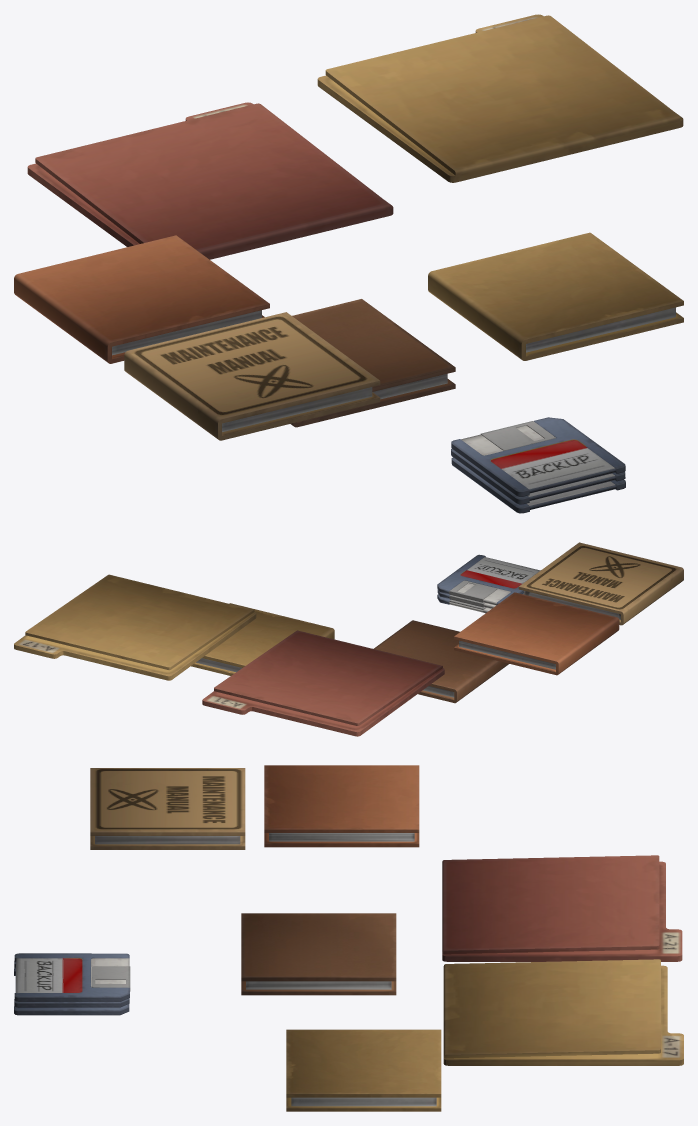
Rendered from BoxesFixtures.fbx.
3 renders of one model, top to bottom at view 1: azimuth 30°, elevation 25°; view 2: azimuth 150°, elevation 25°; view 3: azimuth 270°, elevation 25°, orthographic. The views are drawn at different scales.
Parts seen in each view (by area): view 1: SM_File_01.001, SM_File_02.001, SM_Book_01.001, SM_Book_04.001, SM_Book_03.001, SM_Book_02.001, SM_DiskCartridge_02.001, SM_DiskCartridge_03.001, SM_DiskCartridge_01.001; view 2: SM_File_01.001, SM_File_02.001, SM_Book_03.001, SM_Book_01.001, SM_Book_02.001, SM_Book_04.001, SM_DiskCartridge_02.001, SM_DiskCartridge_03.001; view 3: SM_File_01.001, SM_File_02.001, SM_Book_02.001, SM_Book_03.001, SM_Book_04.001, SM_Book_01.001, SM_DiskCartridge_02.001, SM_DiskCartridge_03.001, SM_DiskCartridge_01.001.
Boxes of the visible parts, x1,y1,x2,y2 form: SM_File_01.001: (317,14,683,182); SM_File_02.001: (27,102,393,259); SM_Book_01.001: (124,312,380,440); SM_Book_04.001: (428,232,683,360); SM_Book_03.001: (14,235,269,363); SM_Book_02.001: (291,299,455,427); SM_DiskCartridge_02.001: (451,417,625,496); SM_DiskCartridge_03.001: (451,457,625,513); SM_DiskCartridge_01.001: (451,449,625,504); SM_File_01.001: (14,574,256,680); SM_File_02.001: (202,630,444,736); SM_Book_03.001: (454,592,619,675); SM_Book_01.001: (518,542,683,625); SM_Book_02.001: (373,620,509,703); SM_Book_04.001: (191,603,334,675); SM_DiskCartridge_02.001: (437,554,540,605); SM_DiskCartridge_03.001: (437,594,491,613); SM_File_01.001: (443,959,683,1065); SM_File_02.001: (442,855,682,961); SM_Book_02.001: (241,913,396,995); SM_Book_03.001: (264,765,419,847); SM_Book_04.001: (286,1029,441,1111); SM_Book_01.001: (90,768,245,849); SM_DiskCartridge_02.001: (14,953,130,1001); SM_DiskCartridge_03.001: (14,968,129,1015); SM_DiskCartridge_01.001: (14,961,129,1007).
Size of the model in its own units: 49.52 by 9.15 by 50.62.
